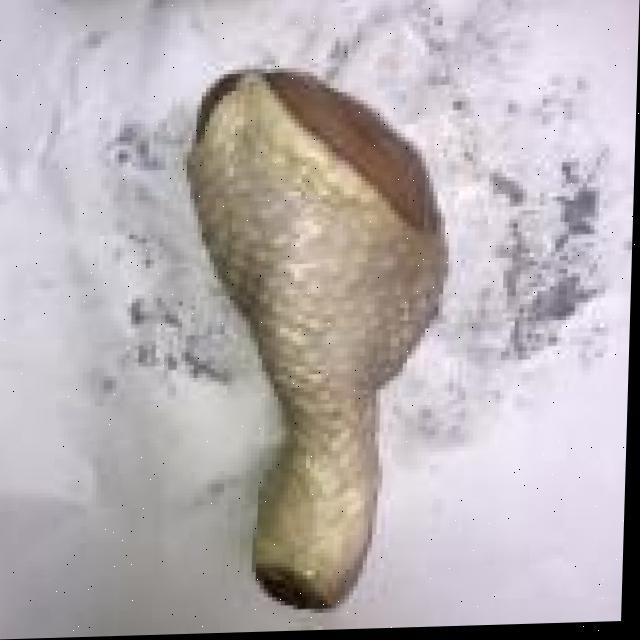leg: (174, 57, 467, 623)
